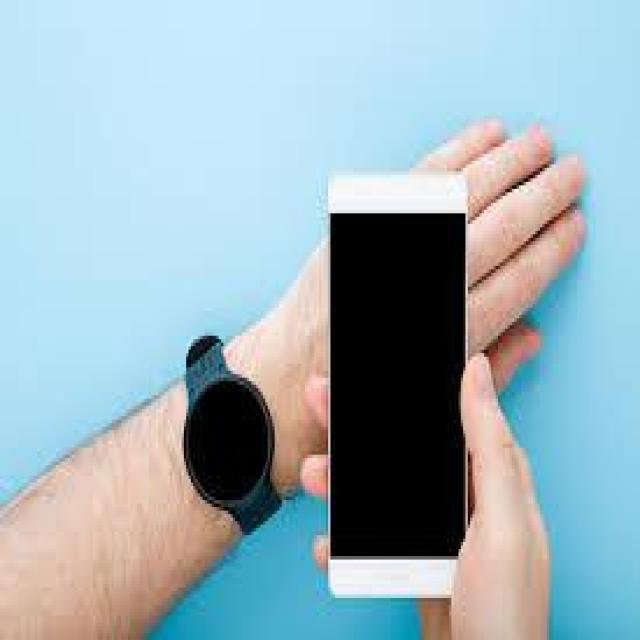smart phone: (321, 148, 506, 640)
watch: (174, 326, 300, 562)
